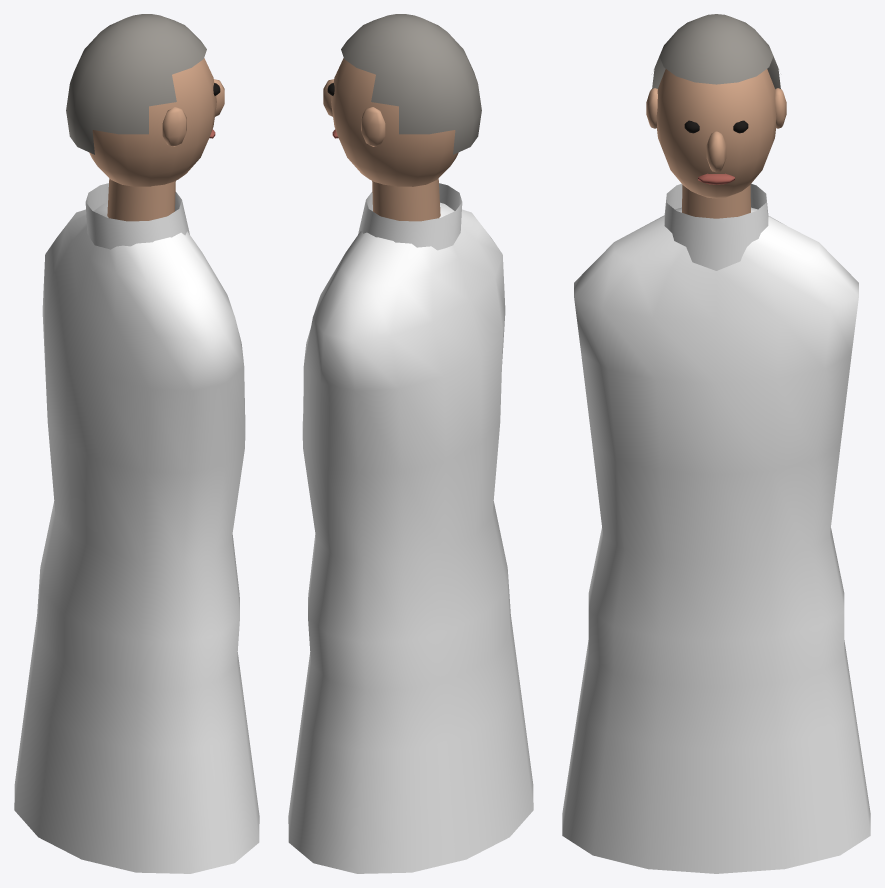
Rendered from body_man_old.obj.
The picture shows the model from 3 angles, left to right: view 1: azimuth 30°, elevation 25°; view 2: azimuth 150°, elevation 25°; view 3: azimuth 270°, elevation 25°; orthographic projection.
Visible parts, largest first — view 1: body_man_old_CoatPaint, body_man_old_HairGrey, body_man_old_Skin; view 2: body_man_old_CoatPaint, body_man_old_HairGrey, body_man_old_Skin; view 3: body_man_old_CoatPaint, body_man_old_Skin, body_man_old_HairGrey.
Part boxes in pixels (bbox=[...]): body_man_old_CoatPaint: bbox=[14, 183, 259, 873]; body_man_old_HairGrey: bbox=[66, 14, 206, 154]; body_man_old_Skin: bbox=[89, 58, 224, 221]; body_man_old_CoatPaint: bbox=[288, 183, 533, 873]; body_man_old_HairGrey: bbox=[341, 14, 481, 154]; body_man_old_Skin: bbox=[323, 58, 458, 221]; body_man_old_CoatPaint: bbox=[562, 183, 870, 873]; body_man_old_Skin: bbox=[646, 69, 786, 218]; body_man_old_HairGrey: bbox=[652, 14, 780, 88].
Size of the model in its own units: 0.31 by 1.24 by 0.4114.
Materials: 5 (5 with a texture image).
